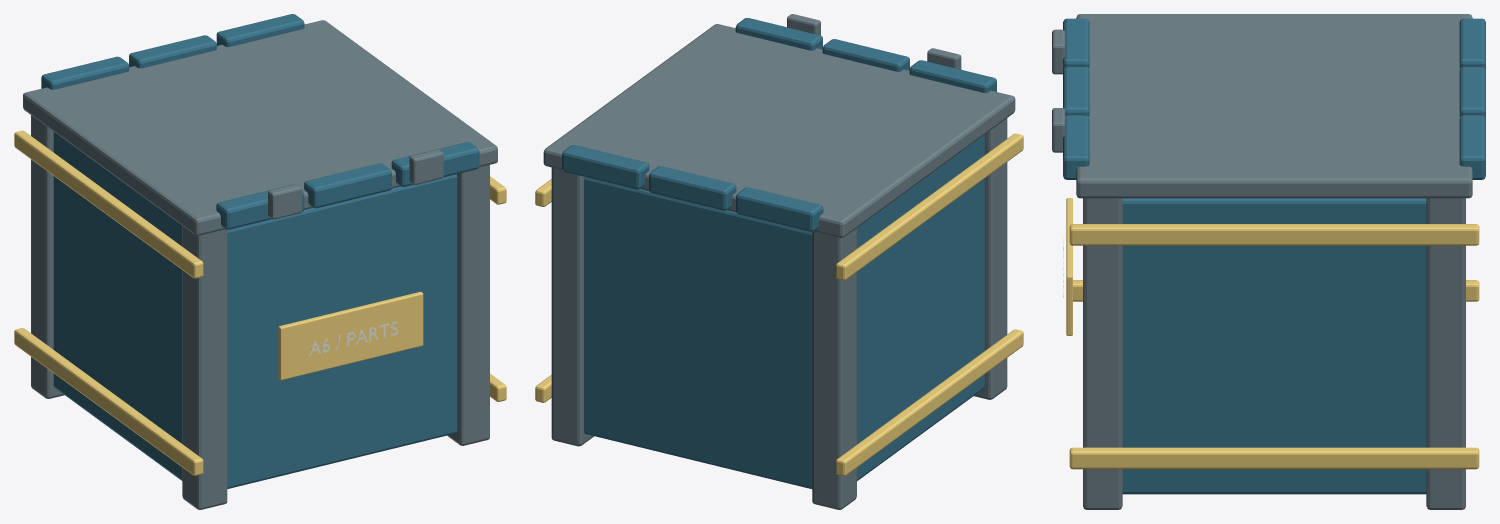
The model's file is cargo_crate_d0.glb.
3 views of the same model, side by side, from view 1: azimuth 30°, elevation 25°; view 2: azimuth 150°, elevation 25°; view 3: azimuth 270°, elevation 25° (orthographic). The views are drawn at different scales.
Parts seen in each view (by area): view 1: Crate shell.006, Solid crate lid.006, Corner post.024, Corner post.026, Identification placard.006, Corner post.025, Vertical tie band.025, Vertical tie band.024, Lid slat.037, Lid slat.038, Lid slat.036, Lid slat.039 (+4 smaller); view 2: Crate shell.006, Solid crate lid.006, Corner post.025, Corner post.027, Corner post.024, Vertical tie band.025, Vertical tie band.024, Lid slat.040, Lid slat.041, Lid slat.039, Lid slat.037, Lid slat.036 (+1 smaller); view 3: Crate shell.006, Solid crate lid.006, Corner post.026, Corner post.027, Vertical tie band.026, Vertical tie band.027, Lid slat.041, Lid slat.038, Lid slat.040, Lid slat.039, Lid slat.037, Lid slat.036 (+4 smaller).
Boxes of the visible parts, x1=… form: Crate shell.006: x1=53, y1=132, x2=457, y2=488; Solid crate lid.006: x1=23, y1=20, x2=497, y2=235; Corner post.024: x1=182, y1=226, x2=227, y2=509; Corner post.026: x1=447, y1=165, x2=489, y2=445; Identification placard.006: x1=278, y1=291, x2=423, y2=380; Corner post.025: x1=31, y1=115, x2=64, y2=398; Vertical tie band.025: x1=14, y1=130, x2=203, y2=278; Vertical tie band.024: x1=14, y1=328, x2=203, y2=475; Lid slat.037: x1=304, y1=163, x2=391, y2=208; Lid slat.038: x1=391, y1=142, x2=479, y2=186; Lid slat.036: x1=216, y1=184, x2=304, y2=229; Lid slat.039: x1=41, y1=56, x2=129, y2=89; Crate shell.006: x1=584, y1=135, x2=984, y2=488; Solid crate lid.006: x1=543, y1=24, x2=1015, y2=237; Corner post.025: x1=812, y1=228, x2=856, y2=509; Corner post.027: x1=551, y1=167, x2=593, y2=446; Corner post.024: x1=974, y1=118, x2=1007, y2=399; Vertical tie band.025: x1=836, y1=133, x2=1023, y2=280; Vertical tie band.024: x1=836, y1=329, x2=1023, y2=476; Lid slat.040: x1=649, y1=166, x2=736, y2=210; Lid slat.041: x1=562, y1=145, x2=649, y2=189; Lid slat.039: x1=736, y1=187, x2=823, y2=231; Lid slat.037: x1=822, y1=39, x2=909, y2=71; Lid slat.036: x1=909, y1=60, x2=996, y2=92; Crate shell.006: x1=1122, y1=198, x2=1426, y2=494; Solid crate lid.006: x1=1076, y1=14, x2=1472, y2=198; Corner post.026: x1=1083, y1=198, x2=1122, y2=509; Corner post.027: x1=1426, y1=198, x2=1465, y2=509; Vertical tie band.026: x1=1069, y1=447, x2=1479, y2=469; Vertical tie band.027: x1=1069, y1=224, x2=1479, y2=245; Lid slat.041: x1=1459, y1=115, x2=1485, y2=179; Lid slat.038: x1=1063, y1=115, x2=1089, y2=179; Lid slat.040: x1=1459, y1=67, x2=1485, y2=118; Lid slat.039: x1=1459, y1=18, x2=1485, y2=69; Lid slat.037: x1=1063, y1=67, x2=1089, y2=116; Lid slat.036: x1=1063, y1=18, x2=1089, y2=69.
Bounding box in the file's own units: 1.86 × 1.78 × 1.97.
